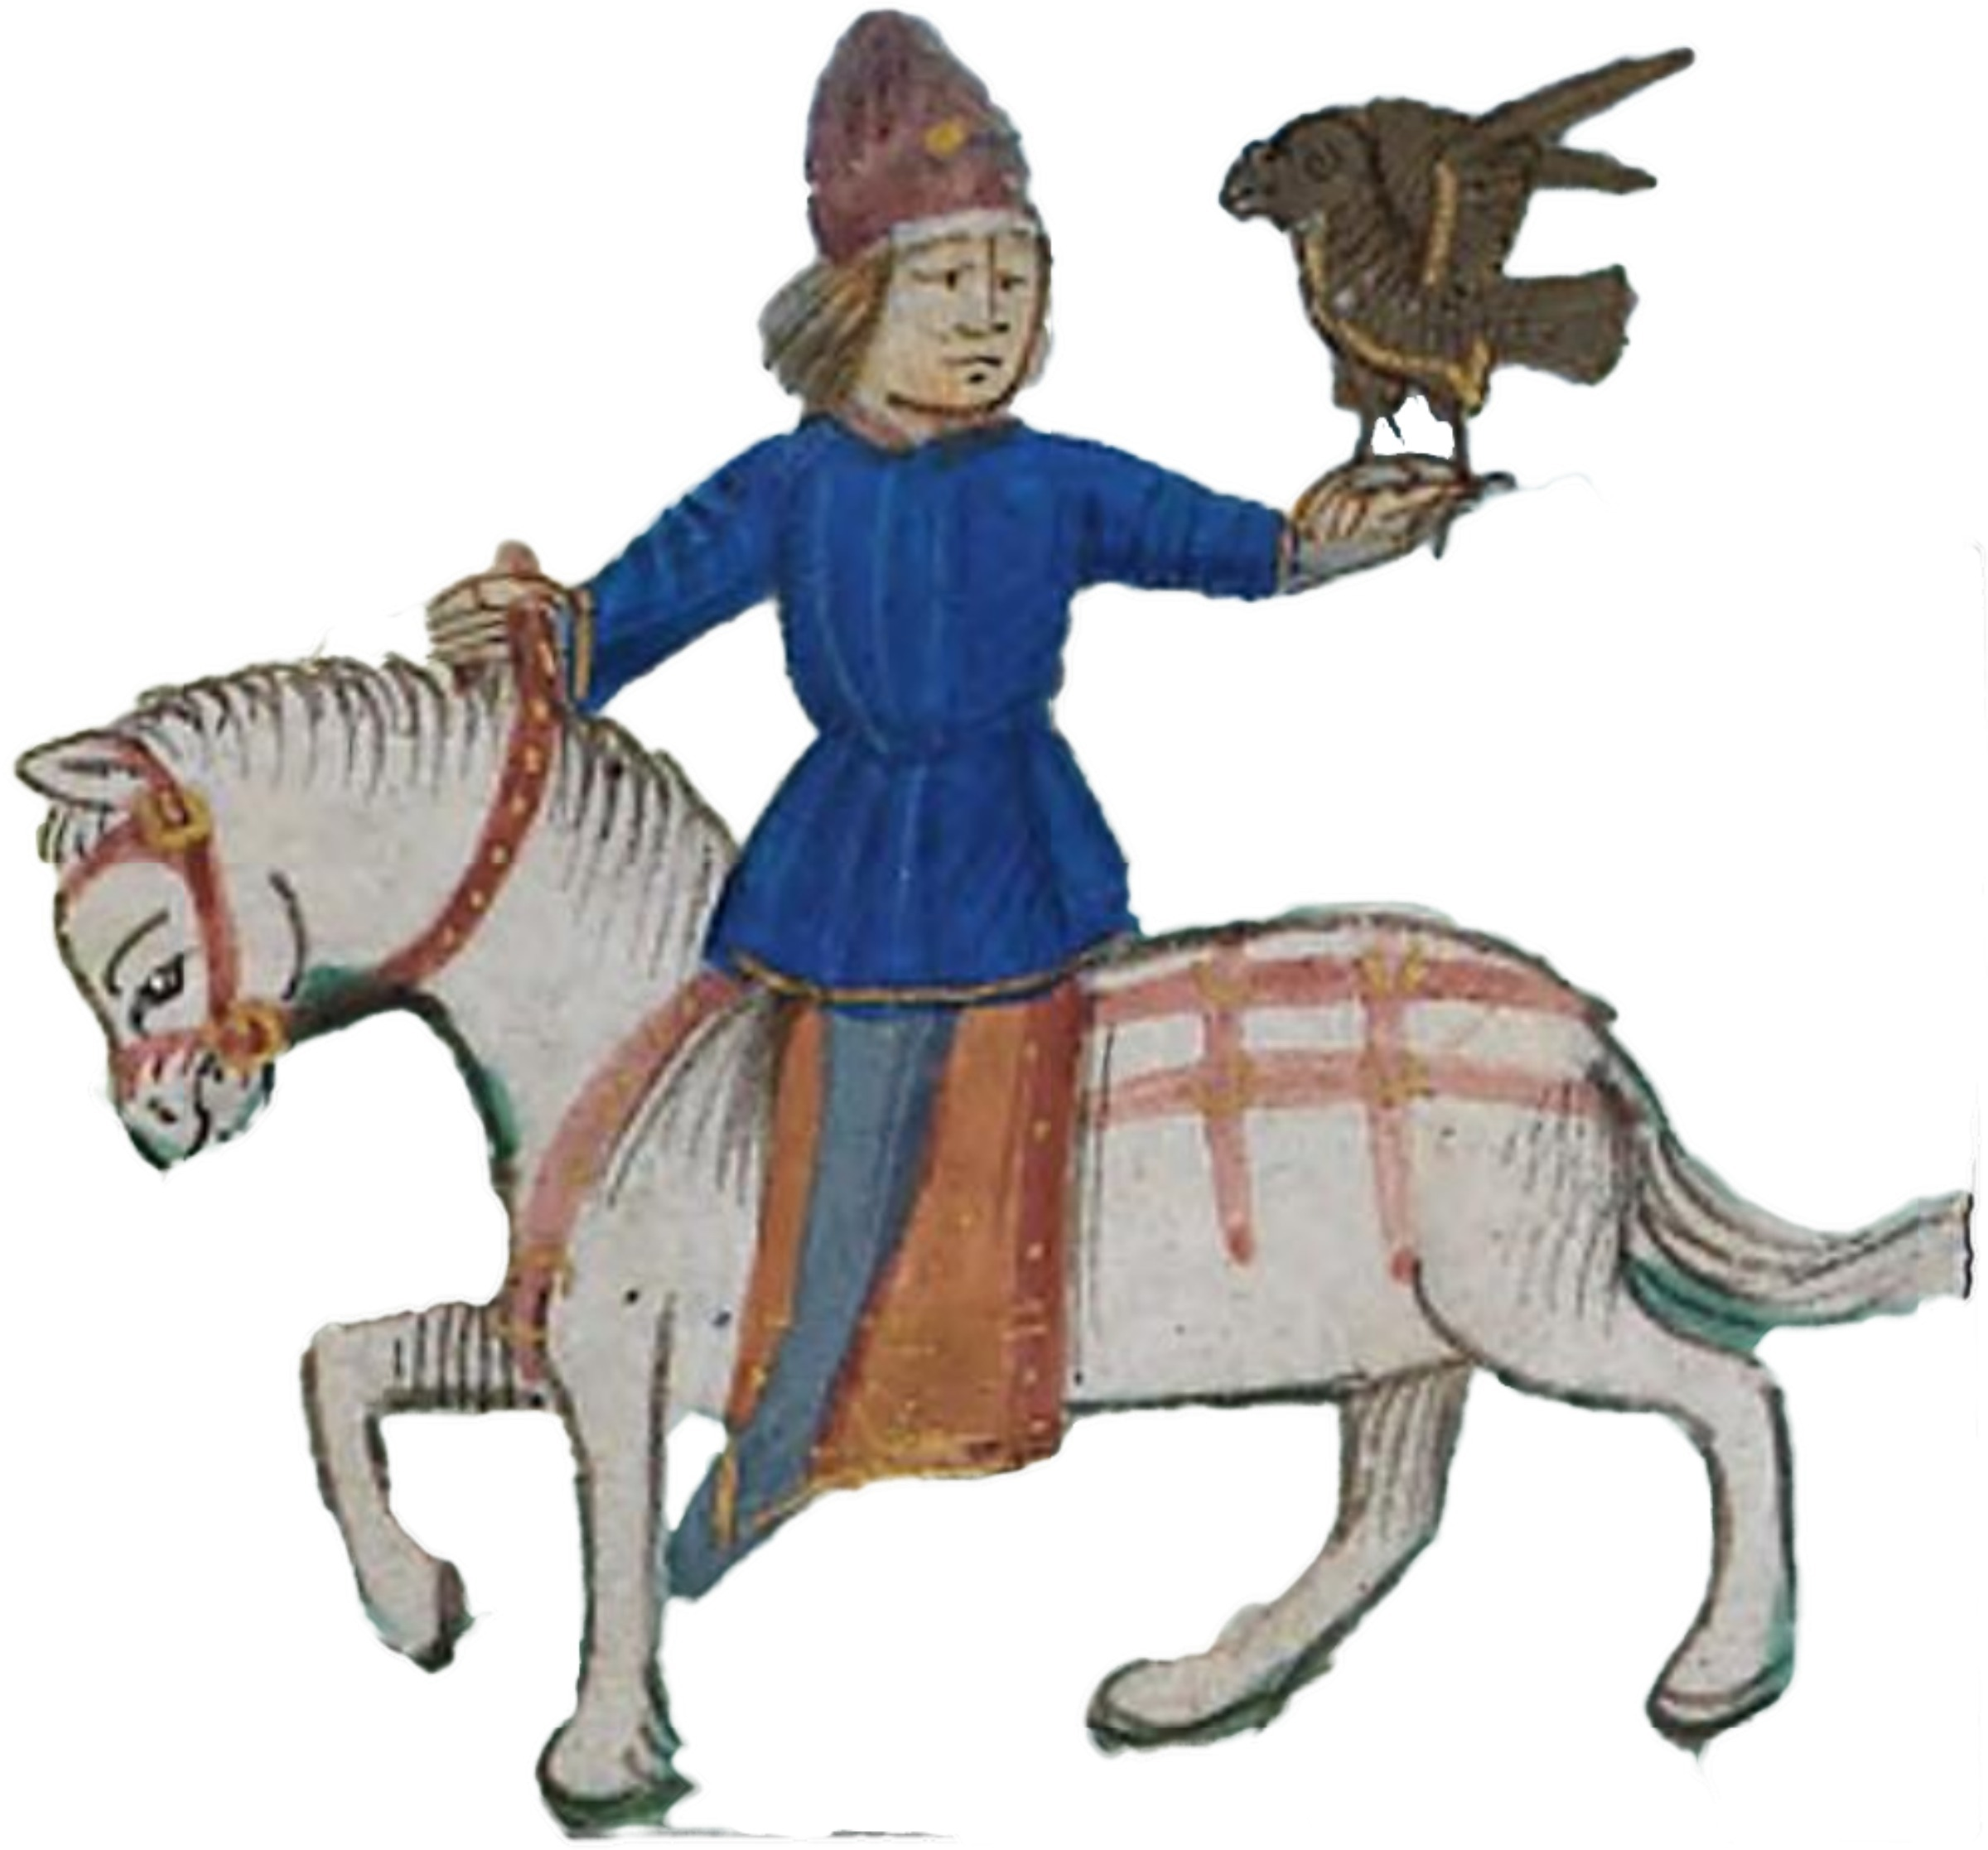bird: (1166, 62, 1636, 548)
horse: (51, 647, 1930, 1782)
person: (567, 30, 1209, 1483)
